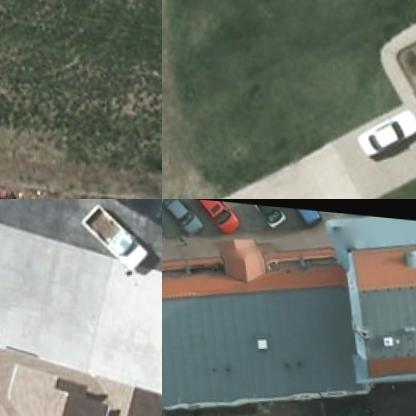car: (357, 101, 415, 160), (166, 199, 205, 243), (112, 199, 161, 229), (206, 199, 243, 232)
pickup: (82, 200, 154, 271)
